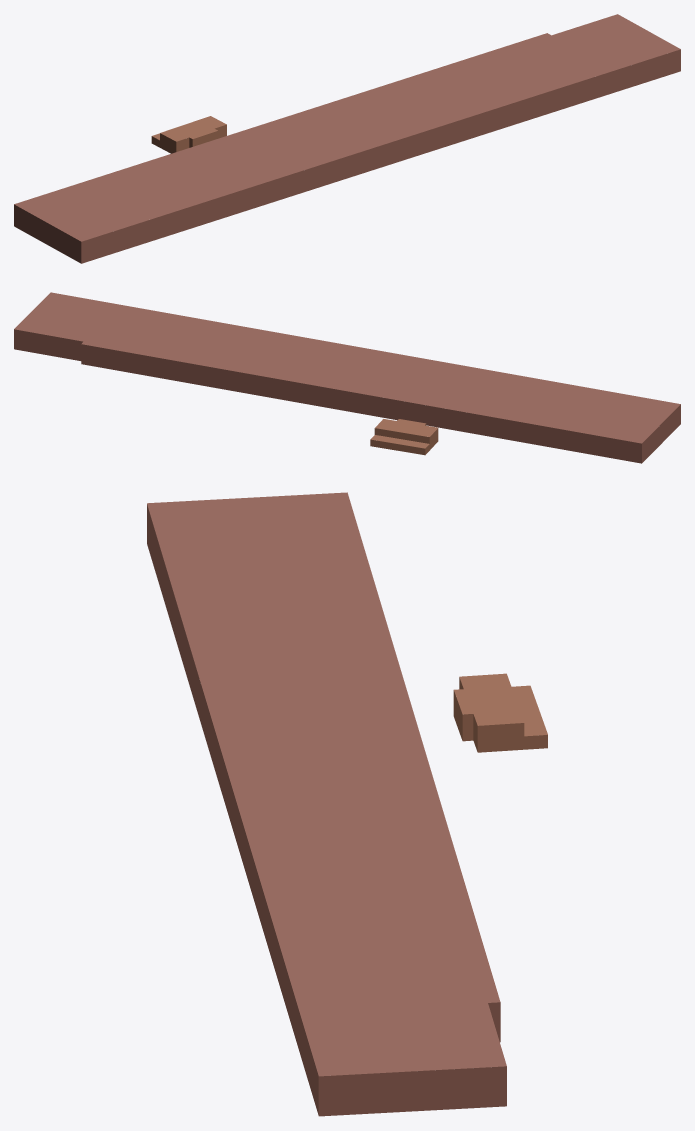
Rendered from tile-4_12.glb.
3 renders of one model, top to bottom at view 1: azimuth 30°, elevation 25°; view 2: azimuth 150°, elevation 25°; view 3: azimuth 270°, elevation 25°, orthographic. The views are drawn at different scales.
Visible parts, largest first — view 1: roof, wall; view 2: roof, wall; view 3: roof, wall.
Part boxes in pixels (x1,y1,x2,y2): roof: [14, 14, 680, 241]; wall: [14, 49, 680, 263]; roof: [14, 292, 680, 448]; wall: [14, 329, 680, 463]; roof: [147, 492, 547, 1076]; wall: [147, 504, 547, 1116].
Size of the model in its own units: 334 by 10.69 by 97.03.
